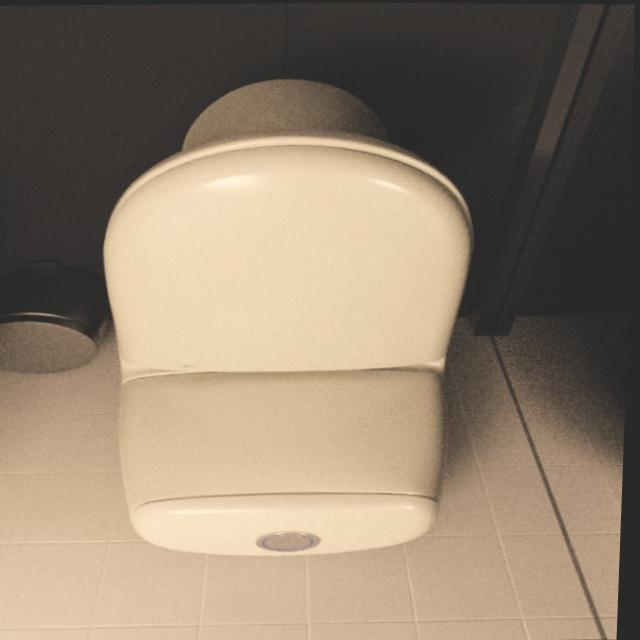toilet: (85, 63, 495, 567)
